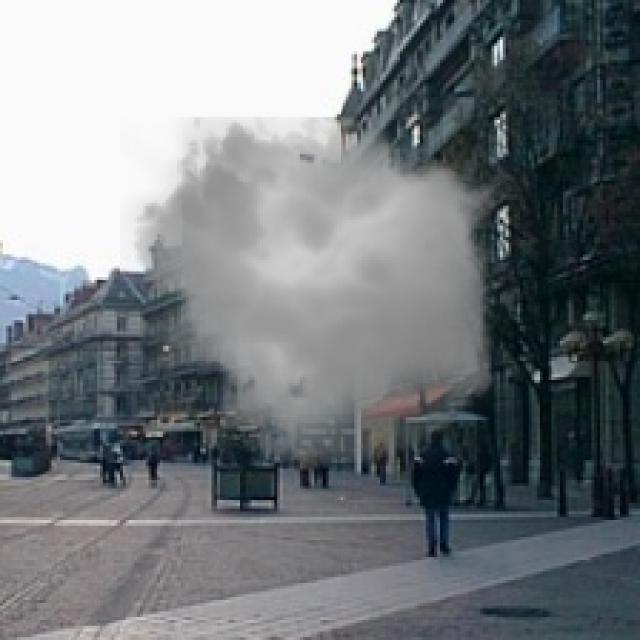Smoke: (120, 100, 514, 480)
